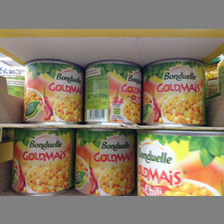corn: (136, 130, 223, 196), (141, 58, 207, 125), (10, 128, 73, 194), (72, 130, 135, 195), (83, 61, 142, 125), (24, 59, 83, 123)
